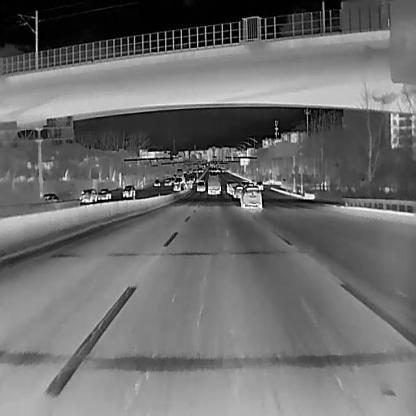car: (240, 185, 262, 208), (207, 173, 220, 194), (80, 188, 98, 202), (226, 181, 239, 195), (96, 188, 111, 199), (122, 185, 135, 197), (43, 193, 59, 202), (233, 184, 243, 198), (196, 179, 205, 190), (173, 180, 181, 190), (153, 179, 160, 185), (164, 178, 171, 184)
